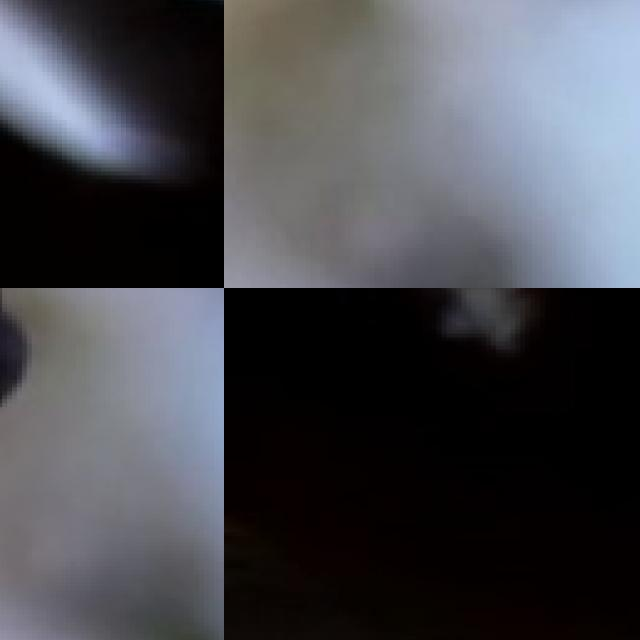fish: (224, 288, 640, 640), (0, 0, 224, 288)
